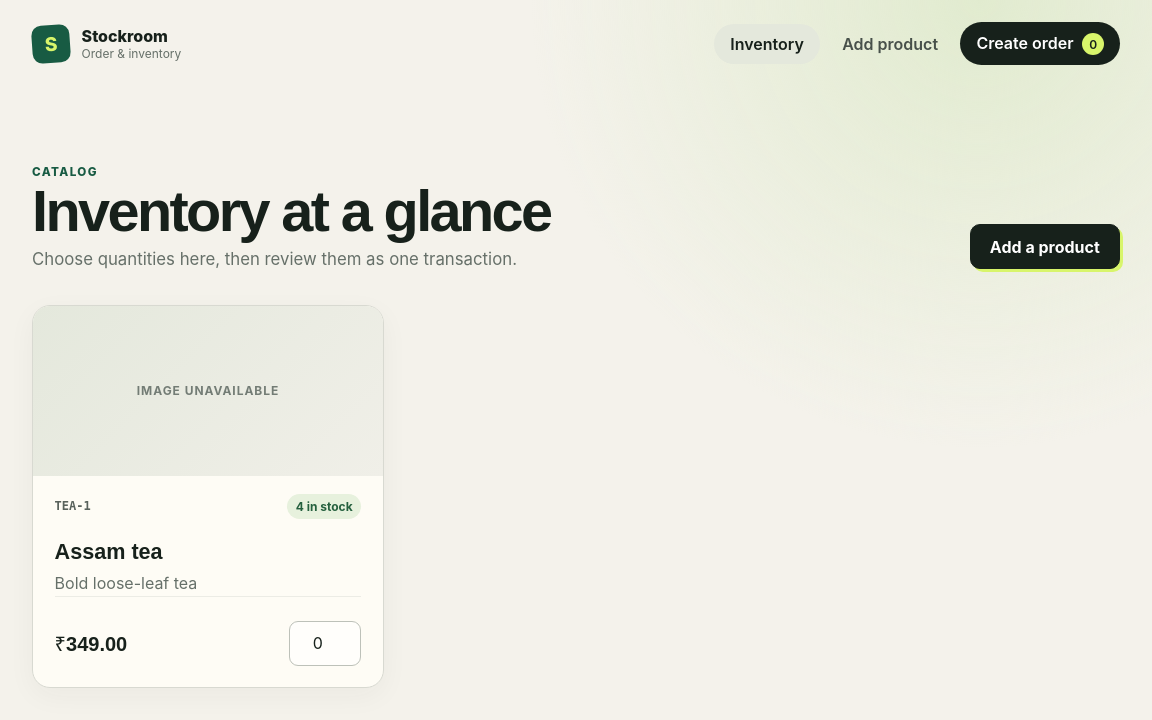
Test: App › renders products and builds an order with accessible controls
Expected: the heading "Assam tea" is shown, top-left (55, 538), bottom-right (163, 564)
Replace the text in the number field named "Quantity for Assam tea" with "2" at (325, 643), box top-left (289, 621), bottom-right (361, 666)
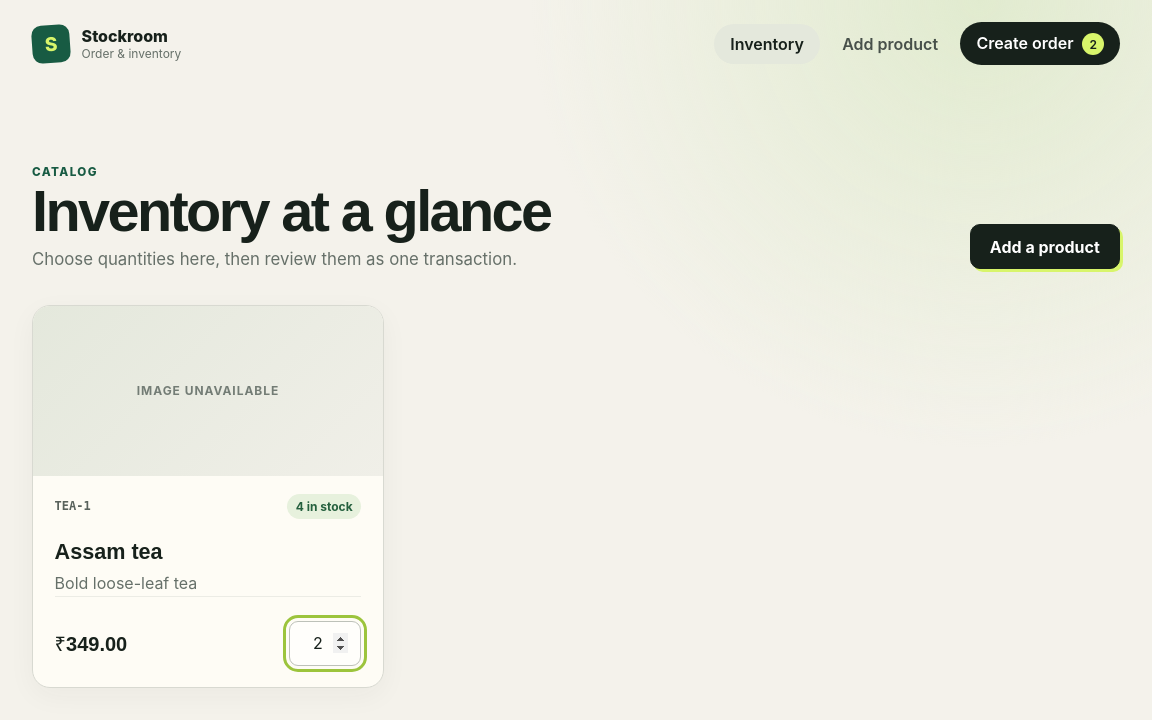
Click the button "Create order 2" at (1040, 44), box top-left (960, 22), bottom-right (1120, 66)
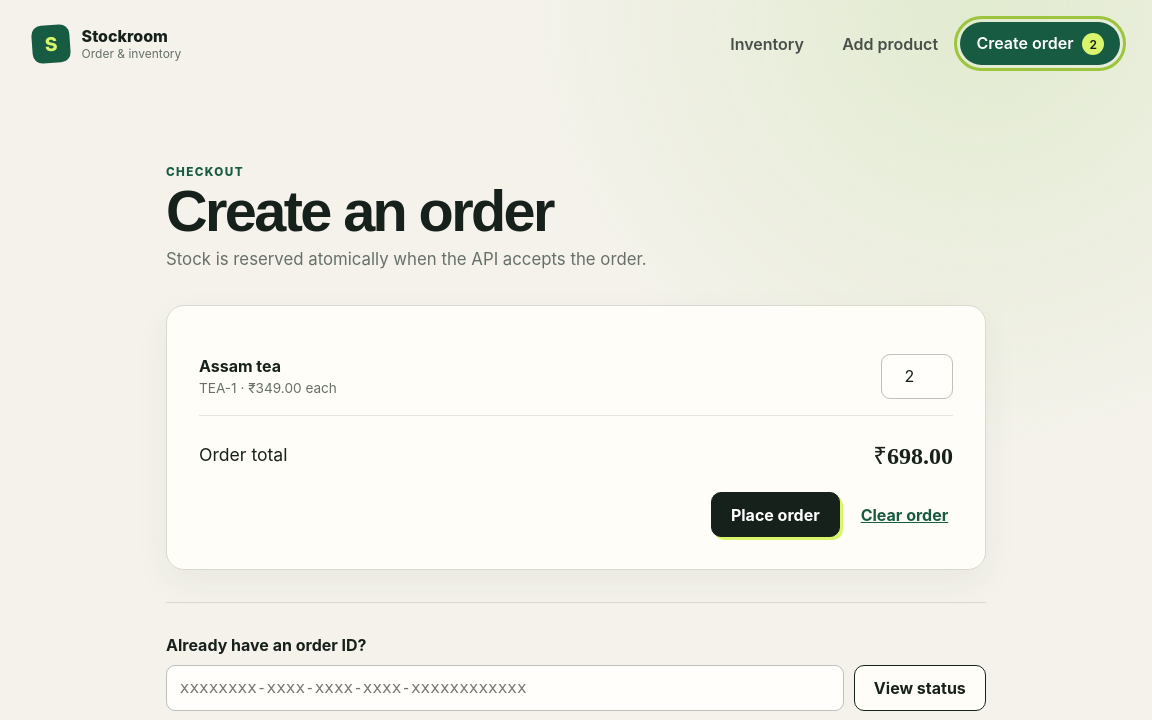
Expected: the button "Place order" is enabled, top-left (711, 492), bottom-right (840, 537)
Expected: the text "₹698.00" is shown, top-left (873, 438), bottom-right (953, 471)
